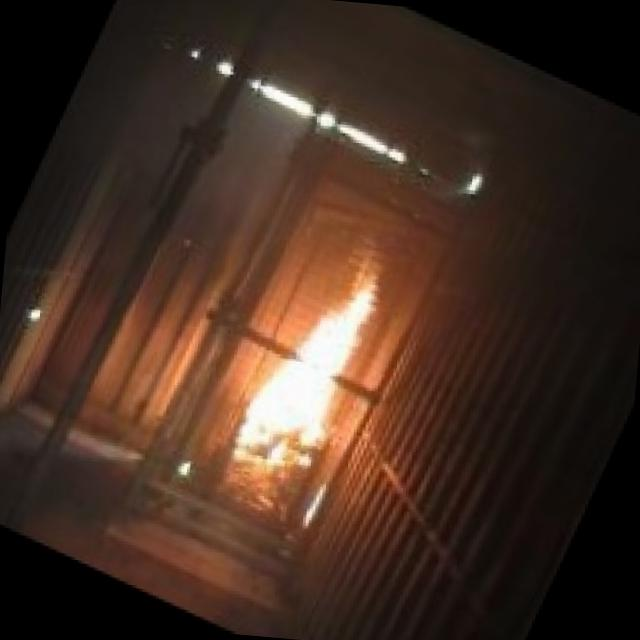fire: (206, 225, 437, 536)
